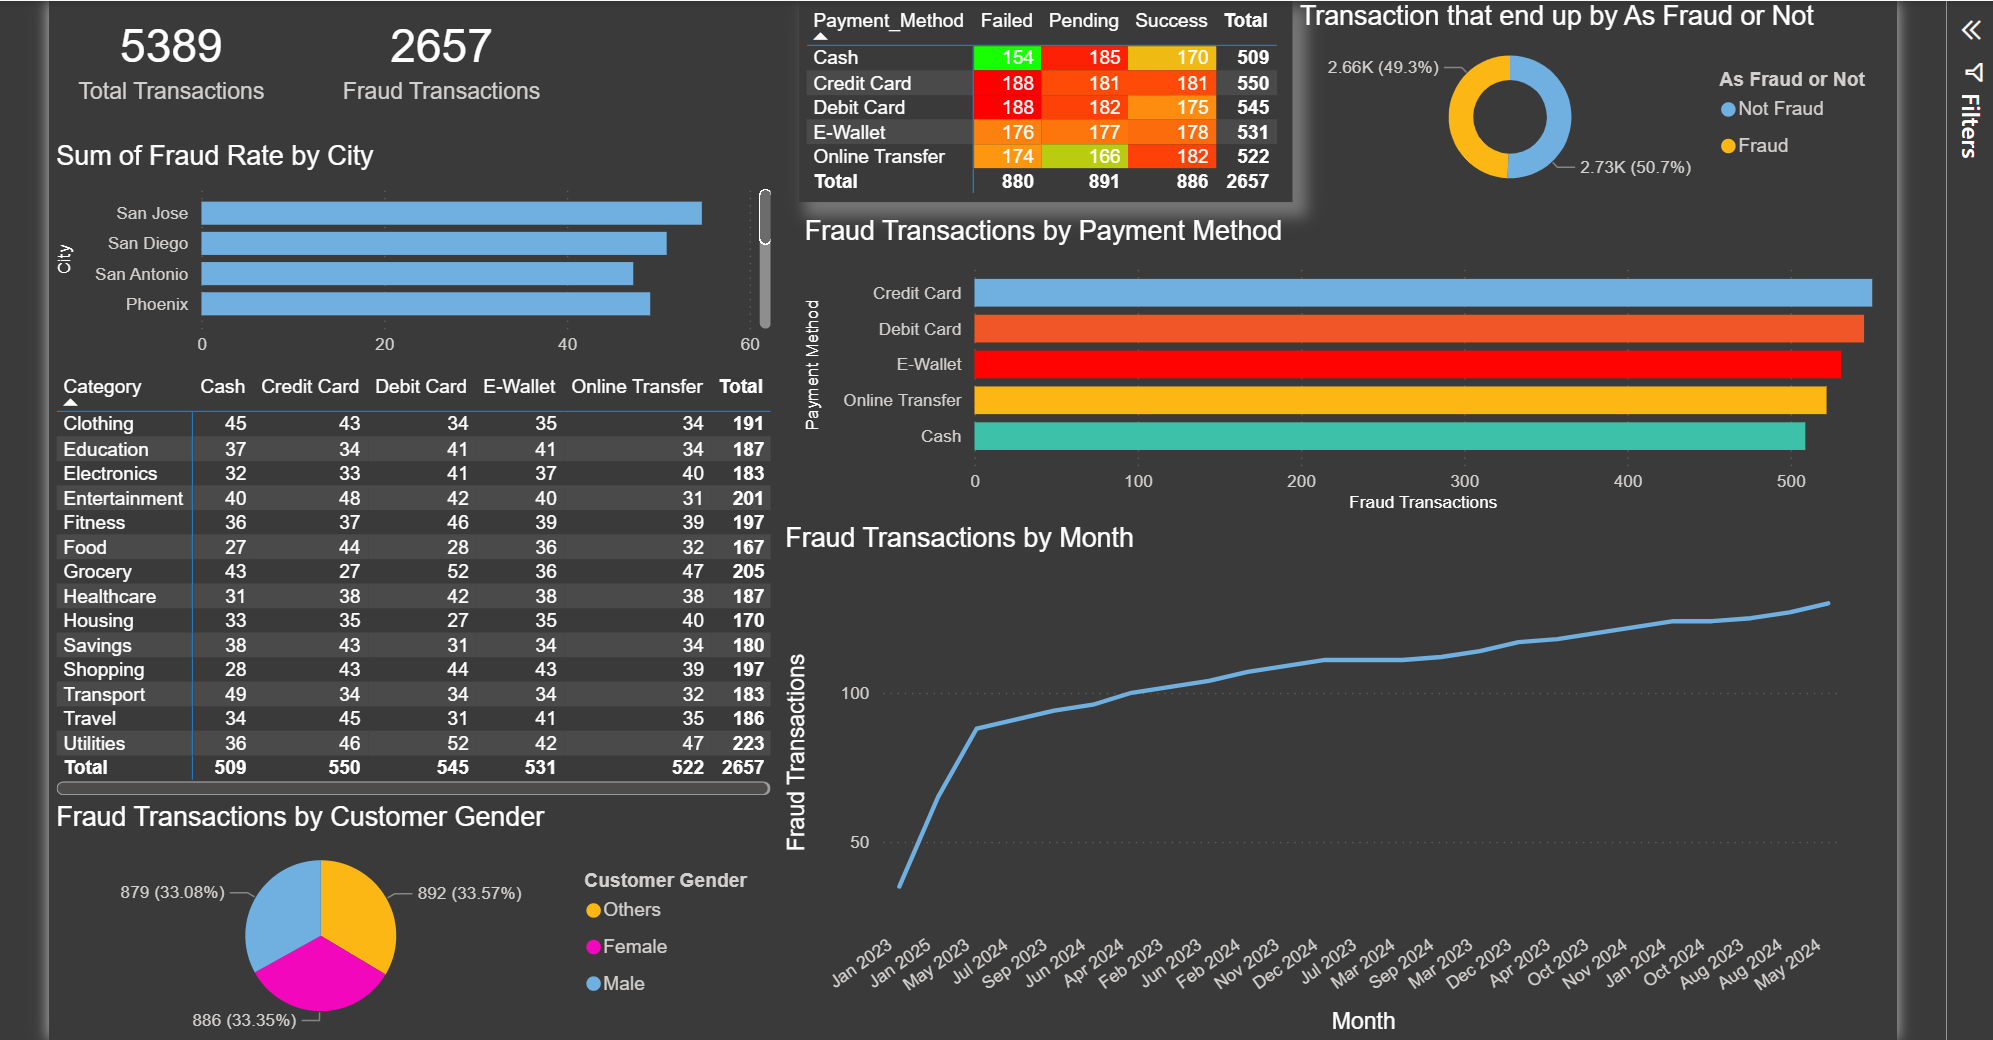

What the dashboard file says about the page in this screenshot:
{"tool":"powerbi","page":{"name":"Page 1","canvas":[1280,720],"ordinal":0},"visuals":[{"type":"card","fields":{"Values":["Sum(v_Fraud_By_City.total_txns)"]},"box":[0,0,169,77.8],"z":0},{"type":"card","fields":{"Values":["Sum(v_Fraud_By_City.fraud_txns)"]},"box":[169,0,204.6,77.8],"z":1000},{"type":"clusteredBarChart","fields":{"Category":["v_Fraud_By_City.City"],"Y":["Sum(v_Fraud_By_City.fraud_rate_pct)"]},"box":[0,96.7,505.2,157],"z":2000},{"type":"donutChart","fields":{"Category":["Banking_Transactions_USA_2023_2024.Fraud_Label"],"Y":["CountNonNull(Banking_Transactions_USA_2023_2024.Transaction_Description)"]},"box":[861.7,0,417.9,139.3],"z":3000},{"type":"clusteredBarChart","fields":{"Category":["Banking_Transactions_USA_2023_2024.Payment_Method"],"Y":["Banking_Transactions_USA_2023_2024.Fraud Txns"]},"box":[519.2,149,760.4,210.1],"z":4000},{"type":"pivotTable","fields":{"Rows":["Banking_Transactions_USA_2023_2024.Category"],"Columns":["Banking_Transactions_USA_2023_2024.Payment_Method"],"Values":["Banking_Transactions_USA_2023_2024.Fraud Txns"]},"box":[0,253.6,505.2,301.4],"z":5000},{"type":"lineChart","fields":{"Category":["Banking_Transactions_USA_2023_2024.Age_Group"],"Y":["Banking_Transactions_USA_2023_2024.Fraud Txns"]},"box":[505.2,361.7,743.2,358.6],"z":6000},{"type":"pivotTable","fields":{"Rows":["Banking_Transactions_USA_2023_2024.Payment_Method"],"Columns":["Banking_Transactions_USA_2023_2024.Transaction_Status"],"Values":["Banking_Transactions_USA_2023_2024.Fraud Txns"]},"box":[519.7,0,342,139.3],"z":7000},{"type":"pieChart","fields":{"Category":["Banking_Transactions_USA_2023_2024.Customer_Gender"],"Y":["Banking_Transactions_USA_2023_2024.Fraud Txns"]},"box":[0,555,505,164],"z":7001}]}

Visuals, with their boxes on the page's 1280x720 design canvas (x1, y1, x2, y2). These are canvas units, not pixel positions in the 1993x1040 screenshot, which may show the page scaled, cropped or inside an application window:
card - Sum(v_Fraud_By_City.total_txns): bbox=(0, 0, 169, 78)
card - Sum(v_Fraud_By_City.fraud_txns): bbox=(169, 0, 374, 78)
clusteredBarChart - v_Fraud_By_City.City x Sum(v_Fraud_By_City.fraud_rate_pct): bbox=(0, 97, 505, 254)
donutChart - Banking_Transactions_USA_2023_2024.Fraud_Label x CountNonNull(Banking_Transactions_USA_2023_2024.Transaction_Description): bbox=(862, 0, 1280, 139)
clusteredBarChart - Banking_Transactions_USA_2023_2024.Payment_Method x Banking_Transactions_USA_2023_2024.Fraud Txns: bbox=(519, 149, 1280, 359)
pivotTable - Banking_Transactions_USA_2023_2024.Category x Banking_Transactions_USA_2023_2024.Payment_Method: bbox=(0, 254, 505, 555)
lineChart - Banking_Transactions_USA_2023_2024.Age_Group x Banking_Transactions_USA_2023_2024.Fraud Txns: bbox=(505, 362, 1248, 720)
pivotTable - Banking_Transactions_USA_2023_2024.Payment_Method x Banking_Transactions_USA_2023_2024.Transaction_Status: bbox=(520, 0, 862, 139)
pieChart - Banking_Transactions_USA_2023_2024.Customer_Gender x Banking_Transactions_USA_2023_2024.Fraud Txns: bbox=(0, 555, 505, 719)
